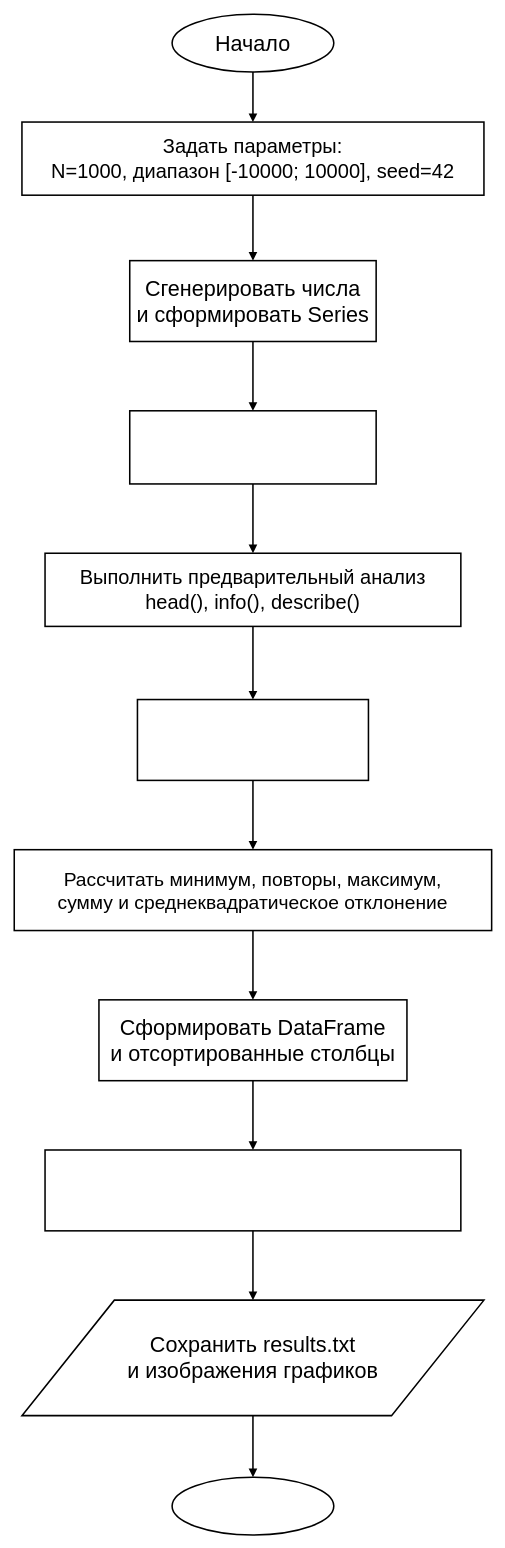
The diagram is 505 pixels wide and 1548 high, and some of its shapes have lost their labels. Here are the shapes that lost their labels. From the top down, the centre of each, then its label:
At (x=253, y=447): "Сохранить dataset.csv и dataset.txt".
At (x=252, y=739): "Очистить данные от цифрового мусора".
At (x=252, y=1190): "Построить линейный график, гистограмму и 2 графика сортировки".
At (x=252, y=1505): "Конец".
